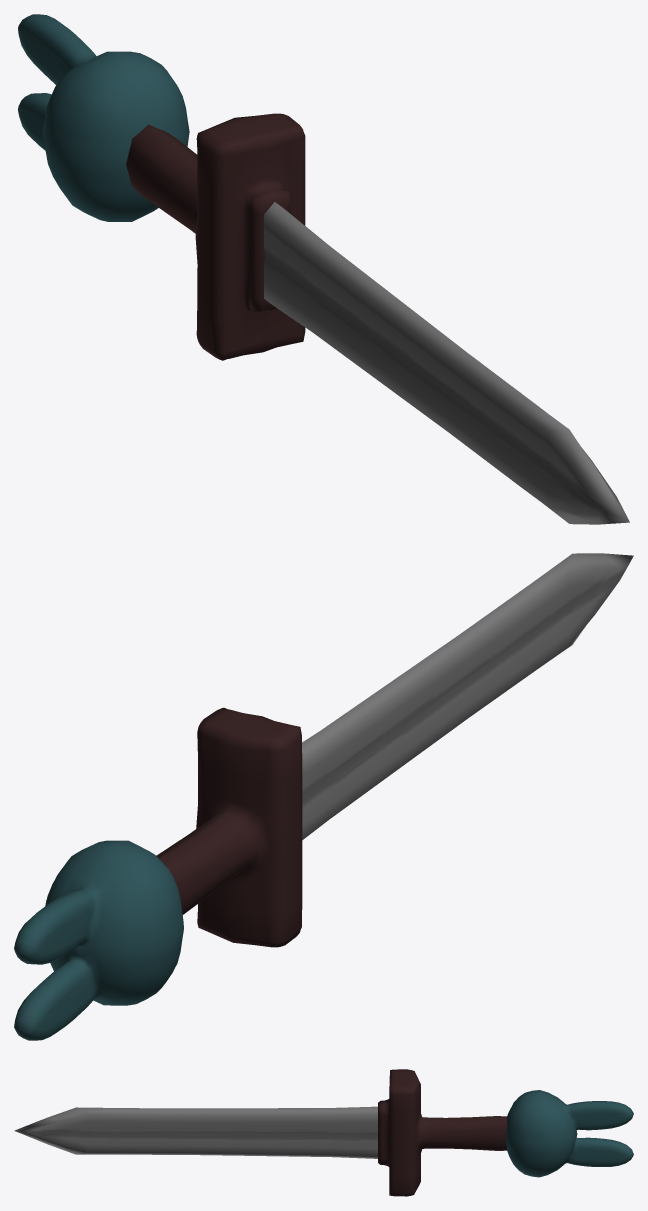
The model's file is SwordWeapon-optimized.glb.
3 renders of one model, top to bottom at view 1: azimuth 30°, elevation 25°; view 2: azimuth 150°, elevation 25°; view 3: azimuth 270°, elevation 25°, orthographic. The views are drawn at different scales.
Parts seen in each view (by area): view 1: Cube.007; view 2: Cube.007; view 3: Cube.007.
Part boxes in pixels (box(x1,y1,x2,y2)): Cube.007: box(18, 14, 629, 524); Cube.007: box(14, 553, 633, 1040); Cube.007: box(14, 1069, 633, 1196).
Size of the model in its own units: 0.7813 by 1.28 by 6.66.
Materials: 1 (1 with a texture image).
